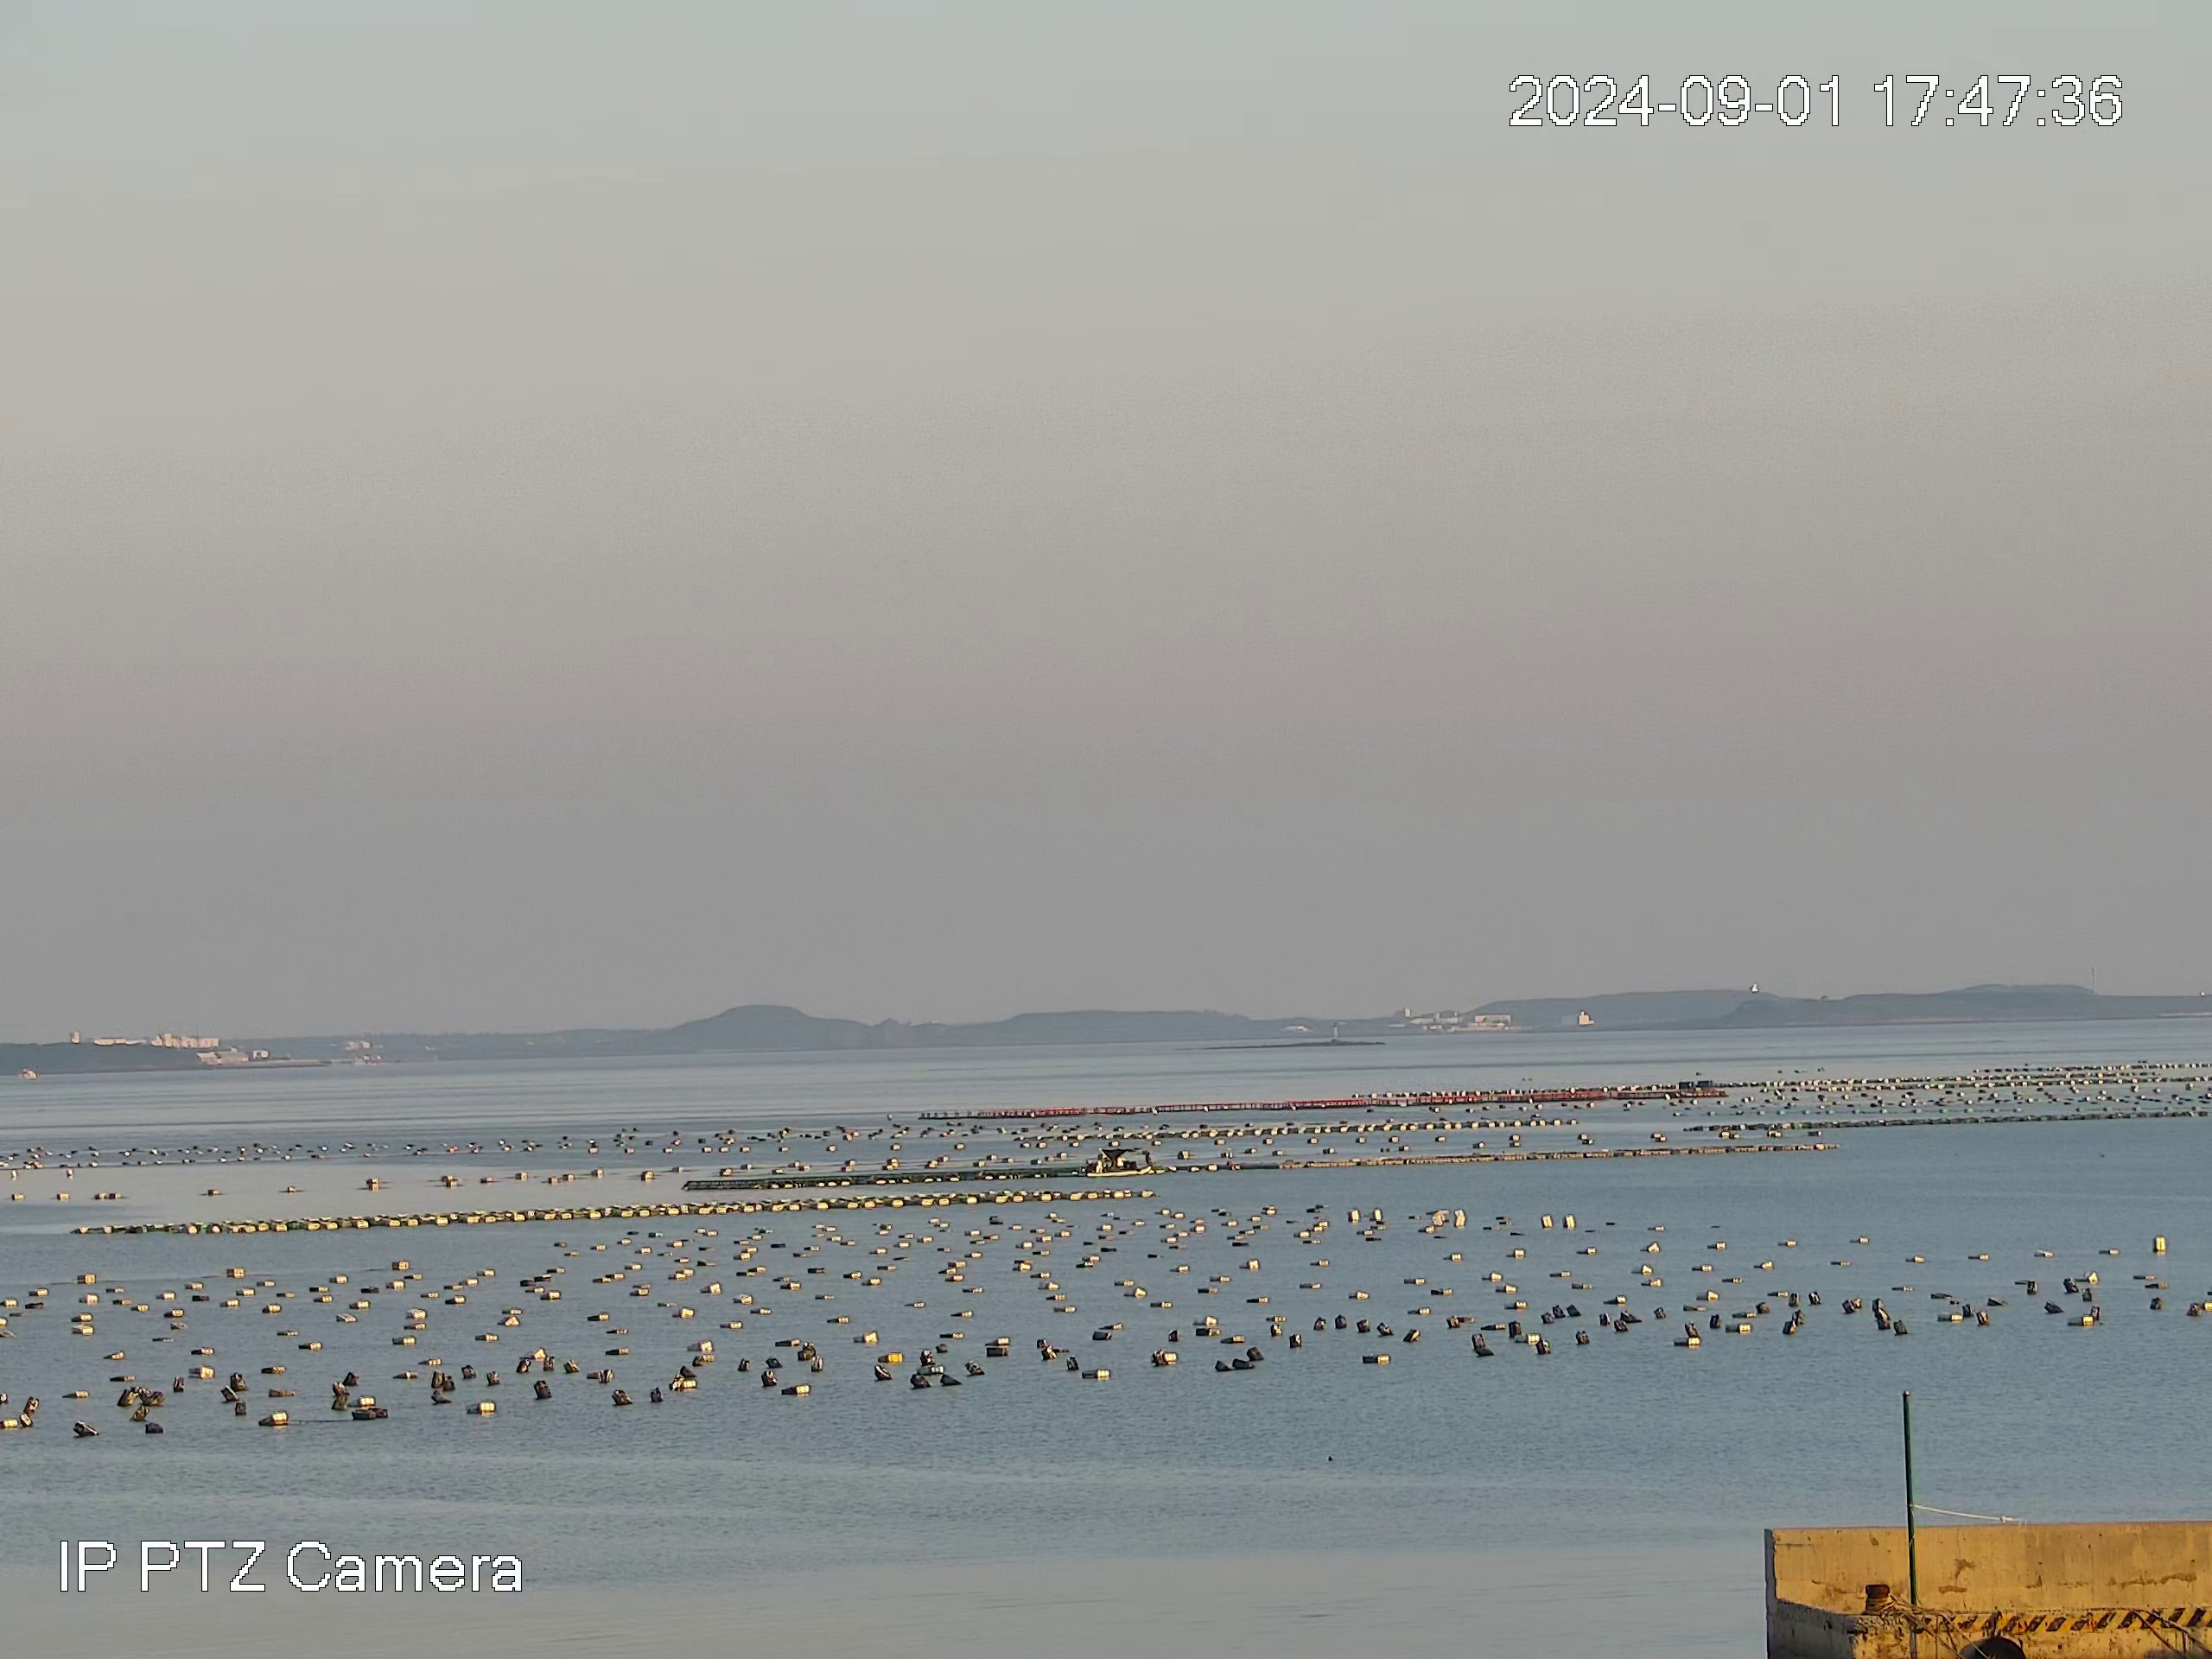boat: (1089, 1145, 1153, 1175)
